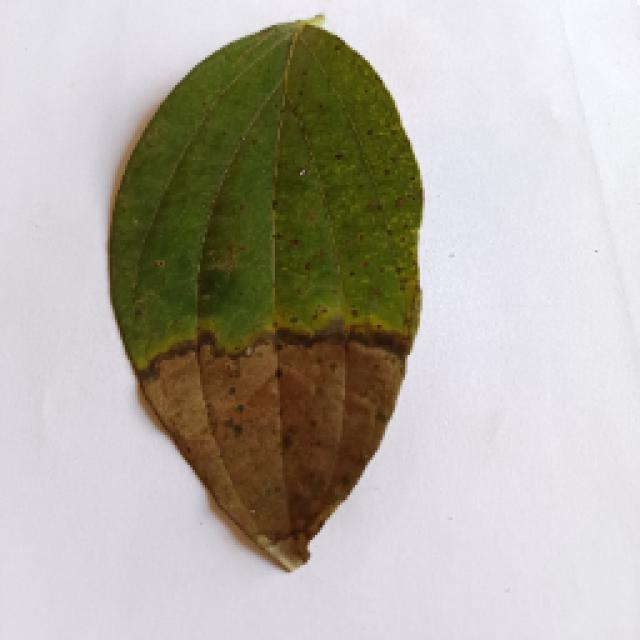footrot: (95, 18, 443, 570)
